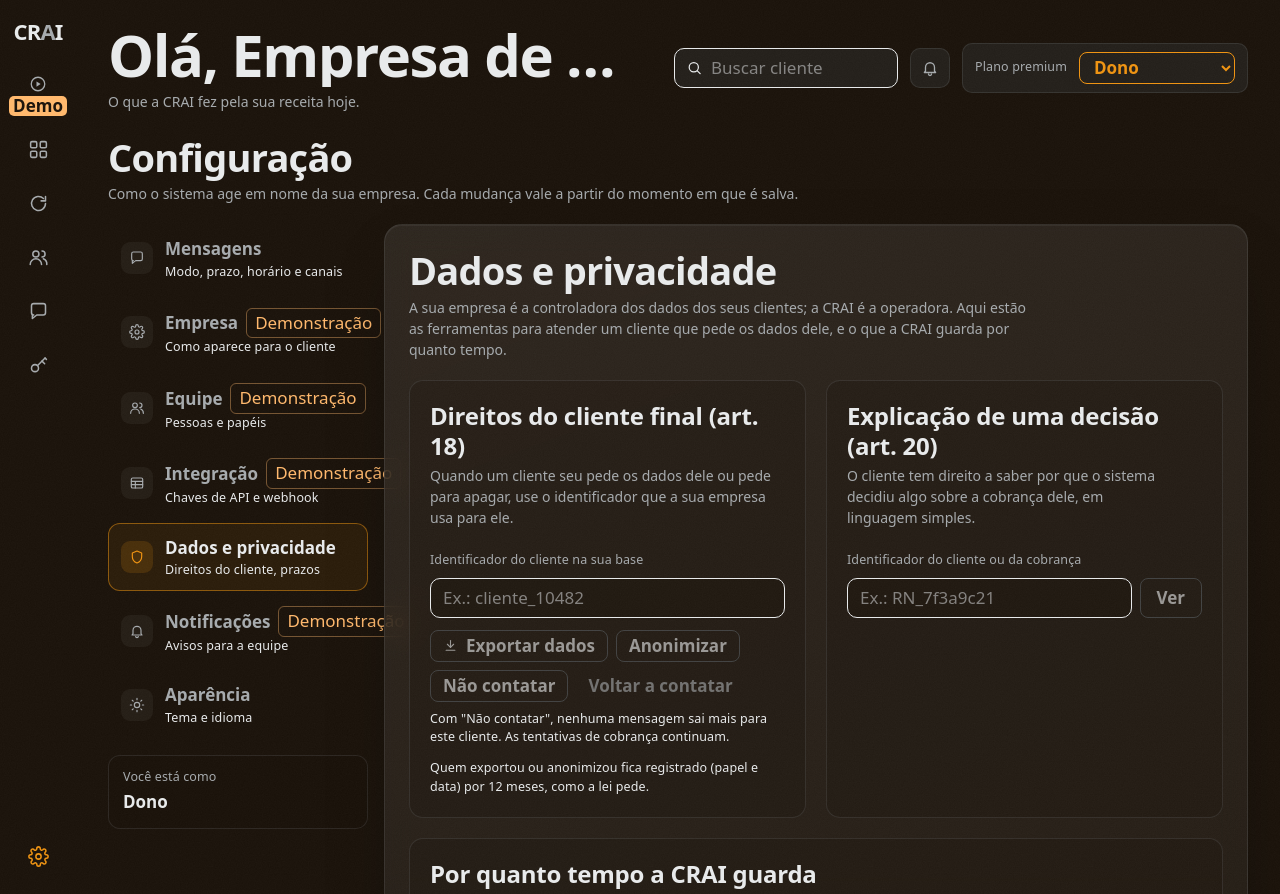
Test: dados e privacidade em modo real › a explicação é a frase que o backend registrou, sem pontos inventados
The image size is (1280, 894).
Expected: the heading "Por quanto tempo a CRAI guarda" is shown, [430,856,817,890]
Type "RN_1" into the field with placeholder "Ex.: RN_7f3a9c21" at (989, 598), box [847,578,1132,618]
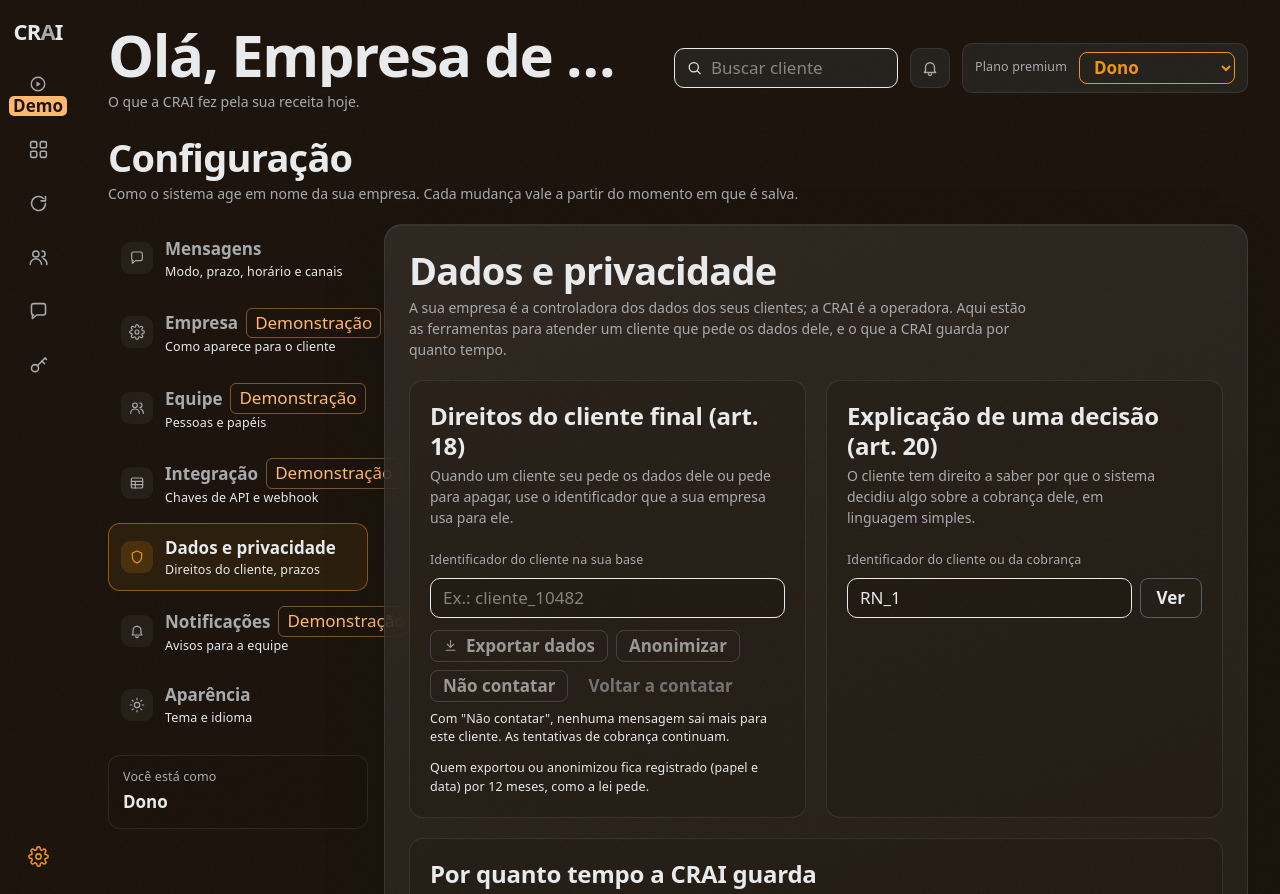
Click the button "Ver" at (1171, 598), box [1140,578,1202,618]
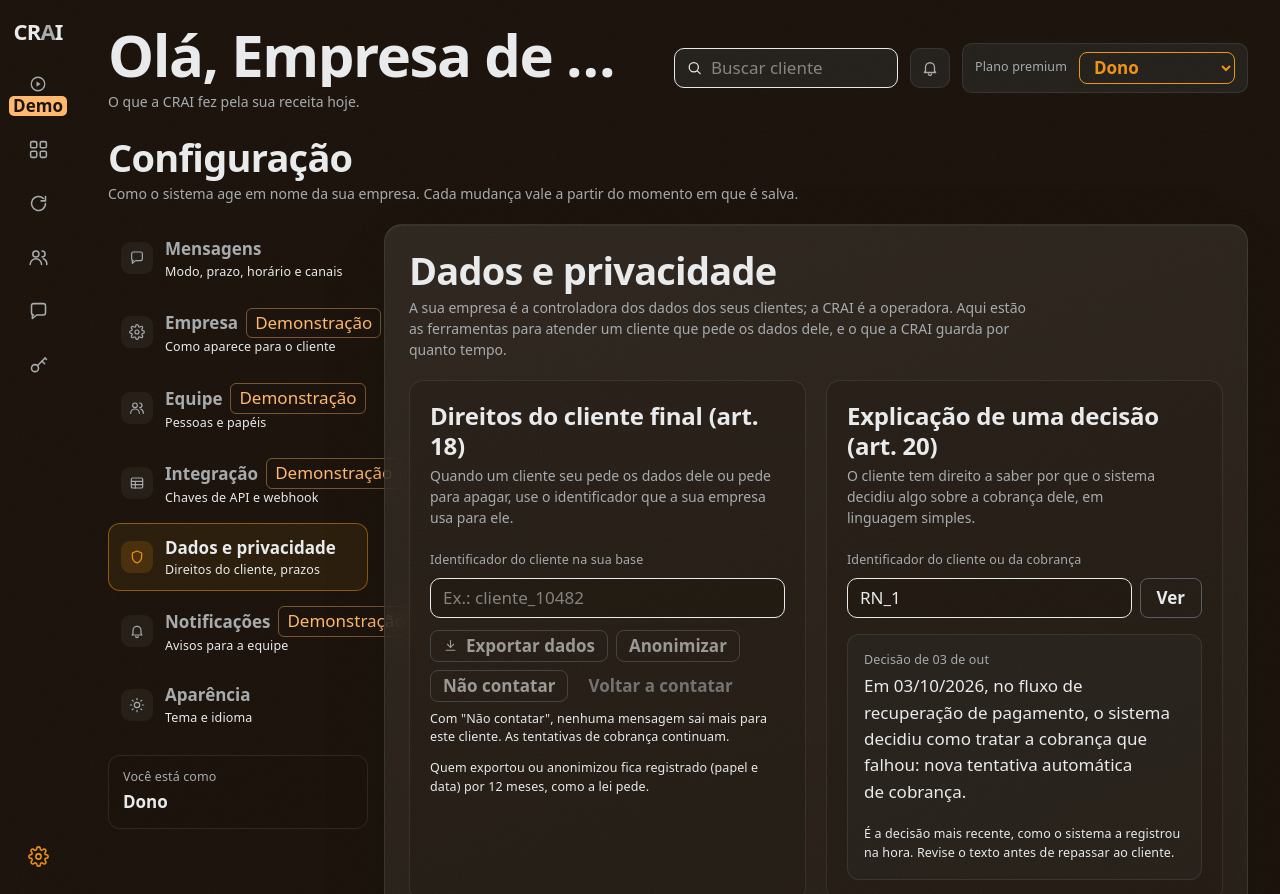
Now the text "Em 03/10/2026, no fluxo de recuperação de pagamento" is shown, box [864,674,1170,803]
Now the text "Revise o texto antes de repassar ao cliente." is shown, box [864,825,1180,861]
